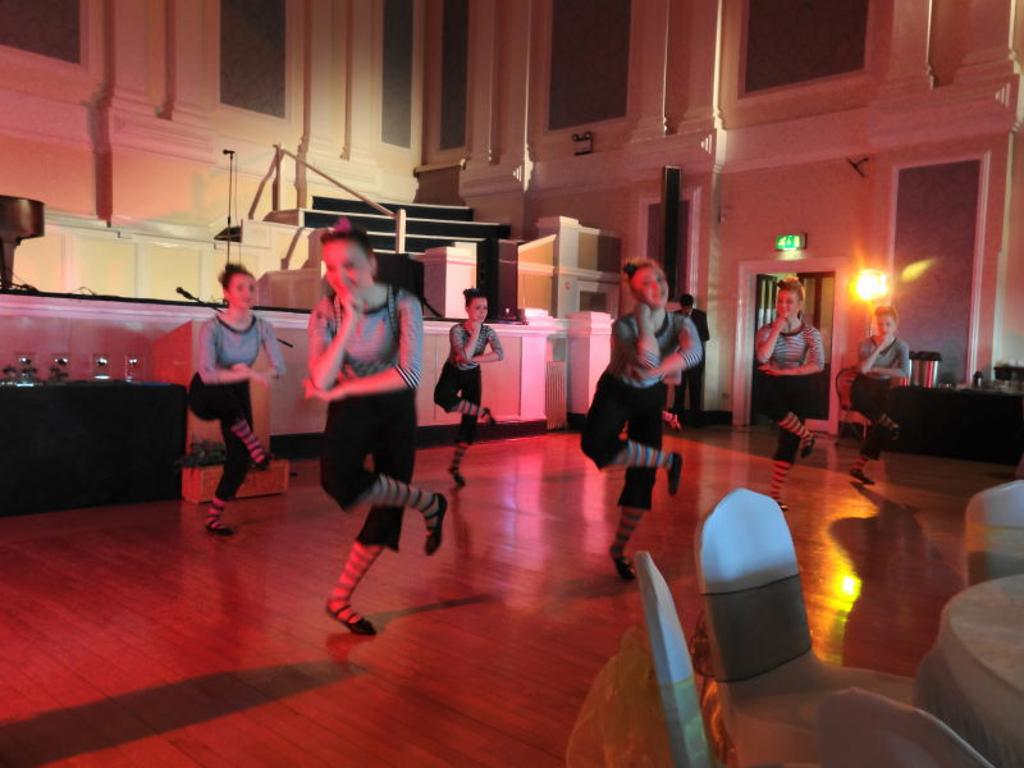face: (320, 241, 372, 297), (630, 268, 669, 304), (228, 273, 256, 309), (776, 288, 797, 317), (470, 297, 488, 323), (877, 316, 895, 337), (682, 304, 691, 315)
